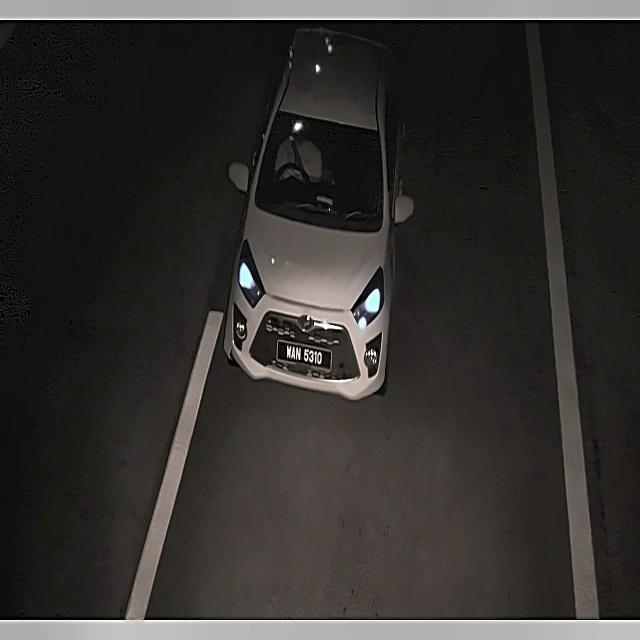car: (274, 336, 335, 378)
